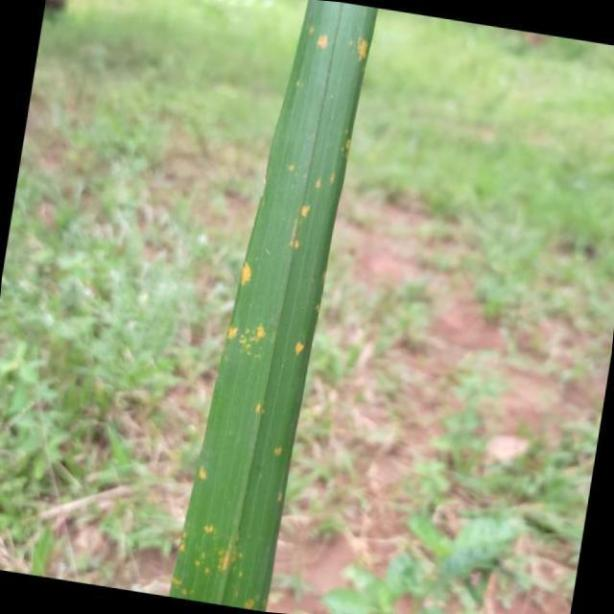Kalium: (171, 0, 377, 609)
